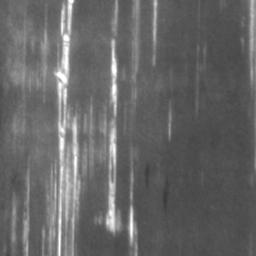Bright scratch: (41, 0, 82, 256), (105, 4, 119, 234)
